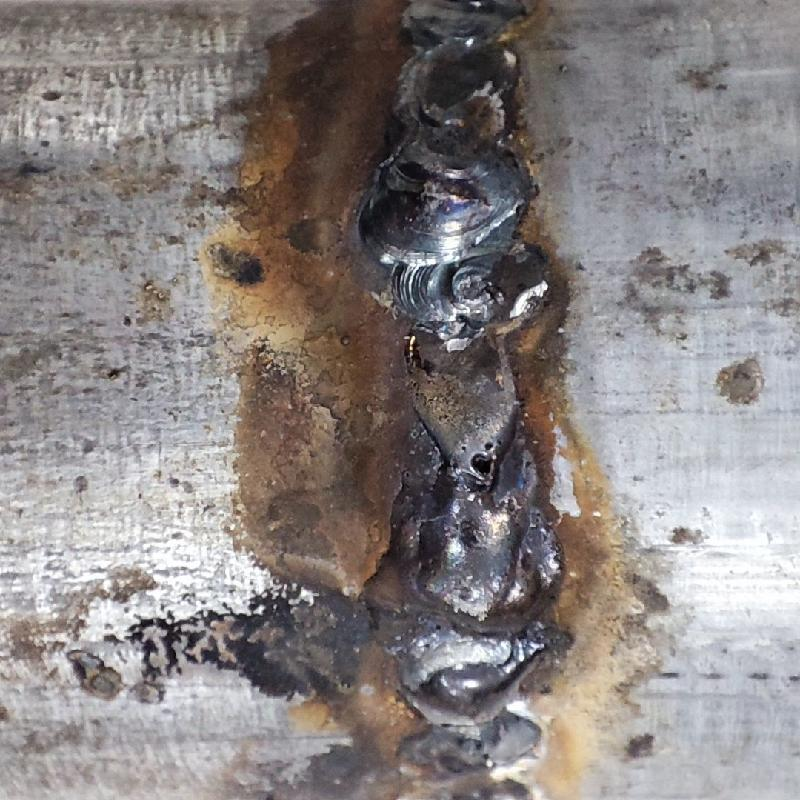Not_fully_soldered: (384, 259, 547, 486)
Surface_pores: (453, 435, 505, 485)
wrong_size: (363, 5, 538, 257)
